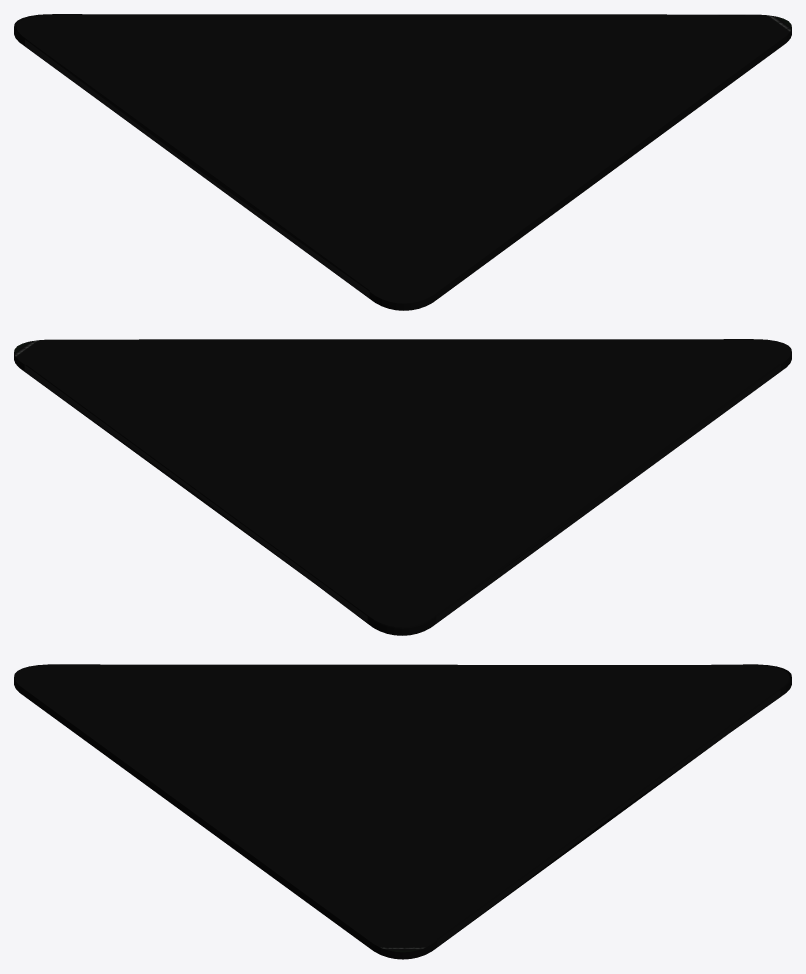
3 renders of one model, top to bottom at view 1: azimuth 30°, elevation 25°; view 2: azimuth 150°, elevation 25°; view 3: azimuth 270°, elevation 25°, orthographic.
Parts seen in each view (by area): view 1: Cube.003; view 2: Cube.003; view 3: Cube.003.
Boxes of the visible parts, x1=… form: Cube.003: x1=14, y1=14, x2=791, y2=310; Cube.003: x1=14, y1=339, x2=791, y2=635; Cube.003: x1=14, y1=664, x2=791, y2=959.
Size of the model in its own units: 0.0743 by 0.000864 by 0.0849.
Materials: 1 (1 with a texture image).
